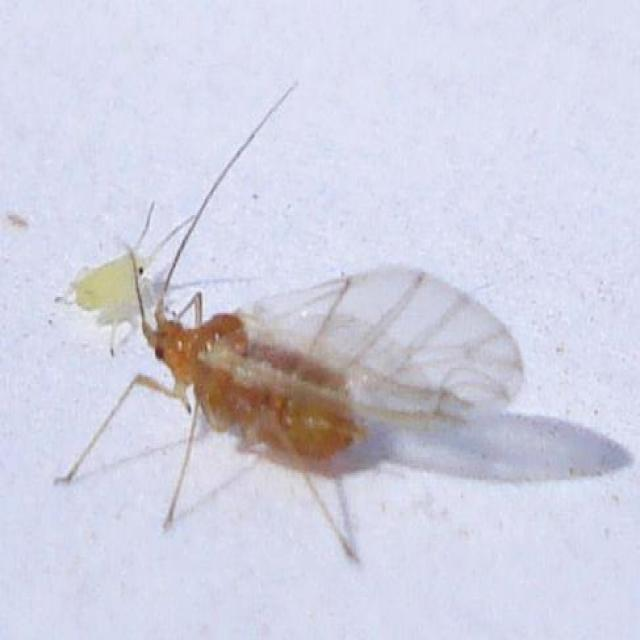aphid: (128, 249, 514, 508)
